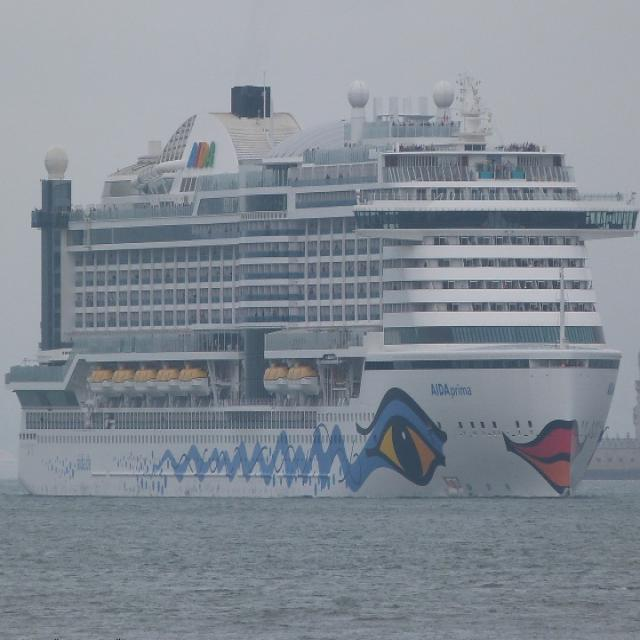cruises: (2, 81, 640, 510)
